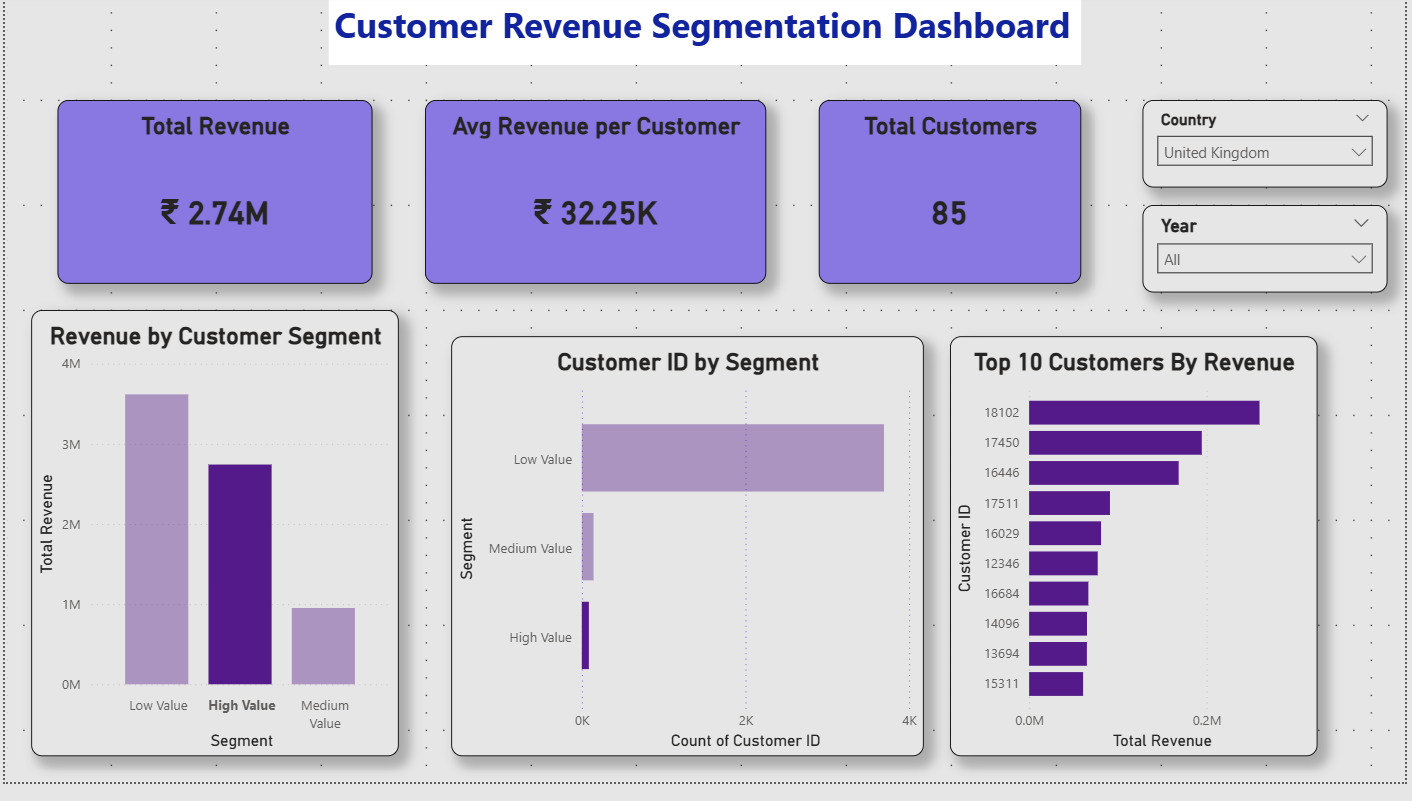

What the dashboard file says about the page in this screenshot:
{"tool":"powerbi","page":{"name":"Page 1","canvas":[1280,720],"ordinal":0},"visuals":[{"type":"card","title":"Total Revenue","fields":{"Values":["Cleaned_data.Total Revenue"]},"box":[48,96,288,168],"z":0},{"type":"textbox","box":[296,0,688,64],"z":1},{"type":"card","title":"Avg Revenue per Customer","fields":{"Values":["Cleaned_data.Avg Revenue per Customer"]},"box":[384,96,312,168],"z":2},{"type":"card","title":"Total Customers","fields":{"Values":["Cleaned_data.Total Customers"]},"box":[744,96,240,168],"z":3},{"type":"clusteredColumnChart","title":"Revenue by Customer Segment","fields":{"Y":["Cleaned_data.Total Revenue"],"Category":["Cleaned_data.Segment"]},"box":[24,288,336,408],"z":4},{"type":"clusteredBarChart","title":"Customer ID by Segment","fields":{"Category":["Cleaned_data.Segment"],"Y":["Count(Cleaned_data.Customer ID)"]},"box":[408,312,432,384],"z":5},{"type":"clusteredBarChart","title":"Top 10 Customers By Revenue","fields":{"Category":["Cleaned_data.Customer ID"],"Y":["Cleaned_data.Total Revenue"]},"box":[864,312,336,384],"z":6},{"type":"slicer","fields":{"Values":["Cleaned_data.Country"]},"box":[1040,96,224,80],"z":7},{"type":"slicer","fields":{"Values":["Cleaned_data.Year"]},"box":[1040,192,224,80],"z":8}]}

Visuals, with their boxes in screenshot pixels (x1, y1, x2, y2), scaled from the page's 1280x720 canvas onto the 1412x801 screenshot:
"Total Revenue" card: region(53, 107, 371, 294)
textbox: region(327, 0, 1085, 71)
"Avg Revenue per Customer" card: region(424, 107, 768, 294)
"Total Customers" card: region(821, 107, 1085, 294)
"Revenue by Customer Segment" clusteredColumnChart: region(26, 320, 397, 774)
"Customer ID by Segment" clusteredBarChart: region(450, 347, 927, 774)
"Top 10 Customers By Revenue" clusteredBarChart: region(953, 347, 1324, 774)
slicer - Cleaned_data.Country: region(1147, 107, 1394, 196)
slicer - Cleaned_data.Year: region(1147, 214, 1394, 303)
